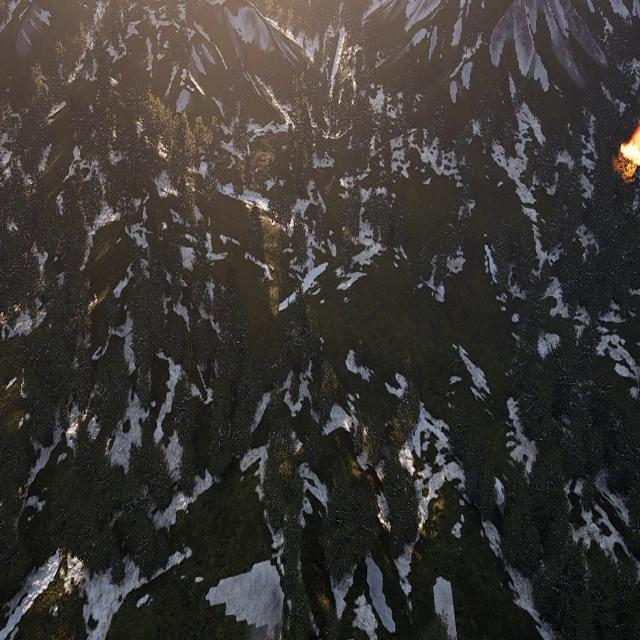fire: (620, 129, 640, 168), (160, 142, 170, 159), (136, 118, 144, 134)
